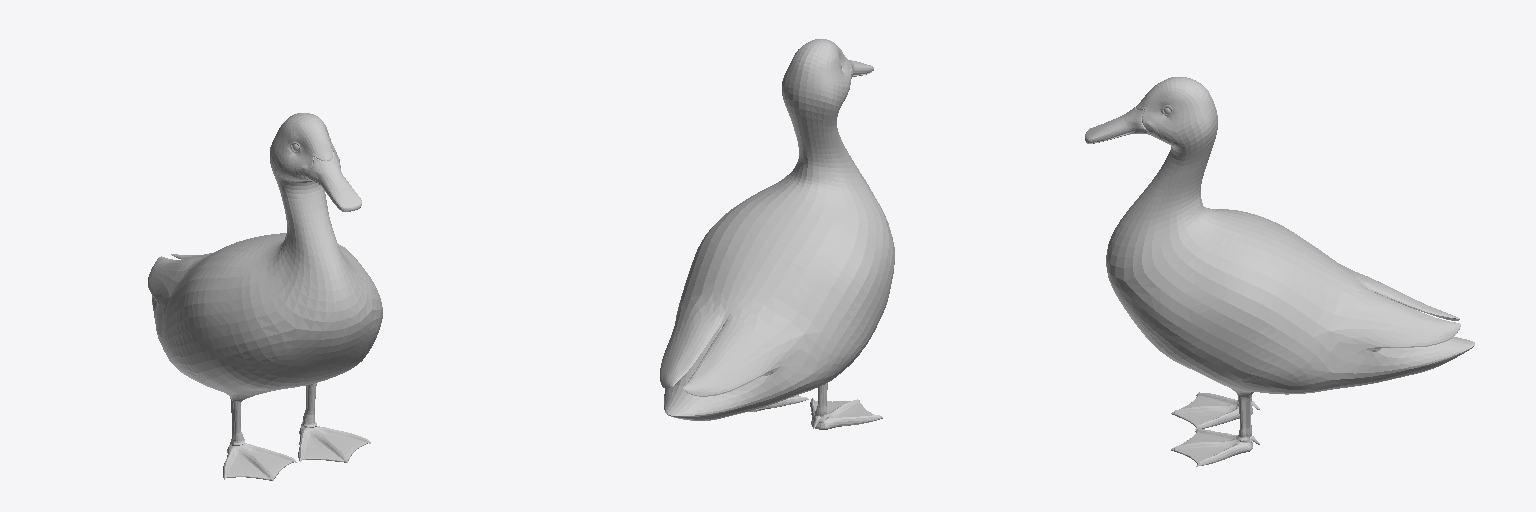
File: 12248_Bird_v1_L2.obj
3 renders of one model, left to right at view 1: azimuth 30°, elevation 25°; view 2: azimuth 150°, elevation 25°; view 3: azimuth 270°, elevation 25°, orthographic.
Bounding box in the file's own units: 28.45 × 56.47 × 56.51.